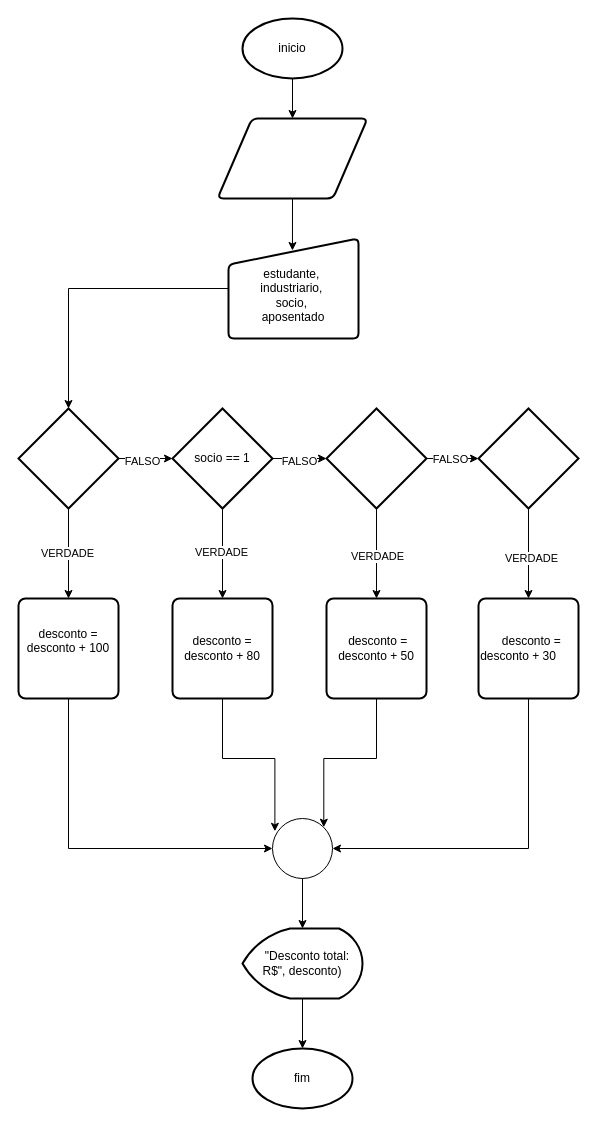
Image size: 596x1126. Some labels were removed from this diagram. Each missing label, with the box of its shape:
aposentado == 1: (17, 407, 119, 509)
estudante == 1: (325, 407, 427, 509)
estudante, industriario, socio, aposentado, desconto = 0: (216, 117, 368, 199)
industriario == 1: (477, 407, 579, 509)
